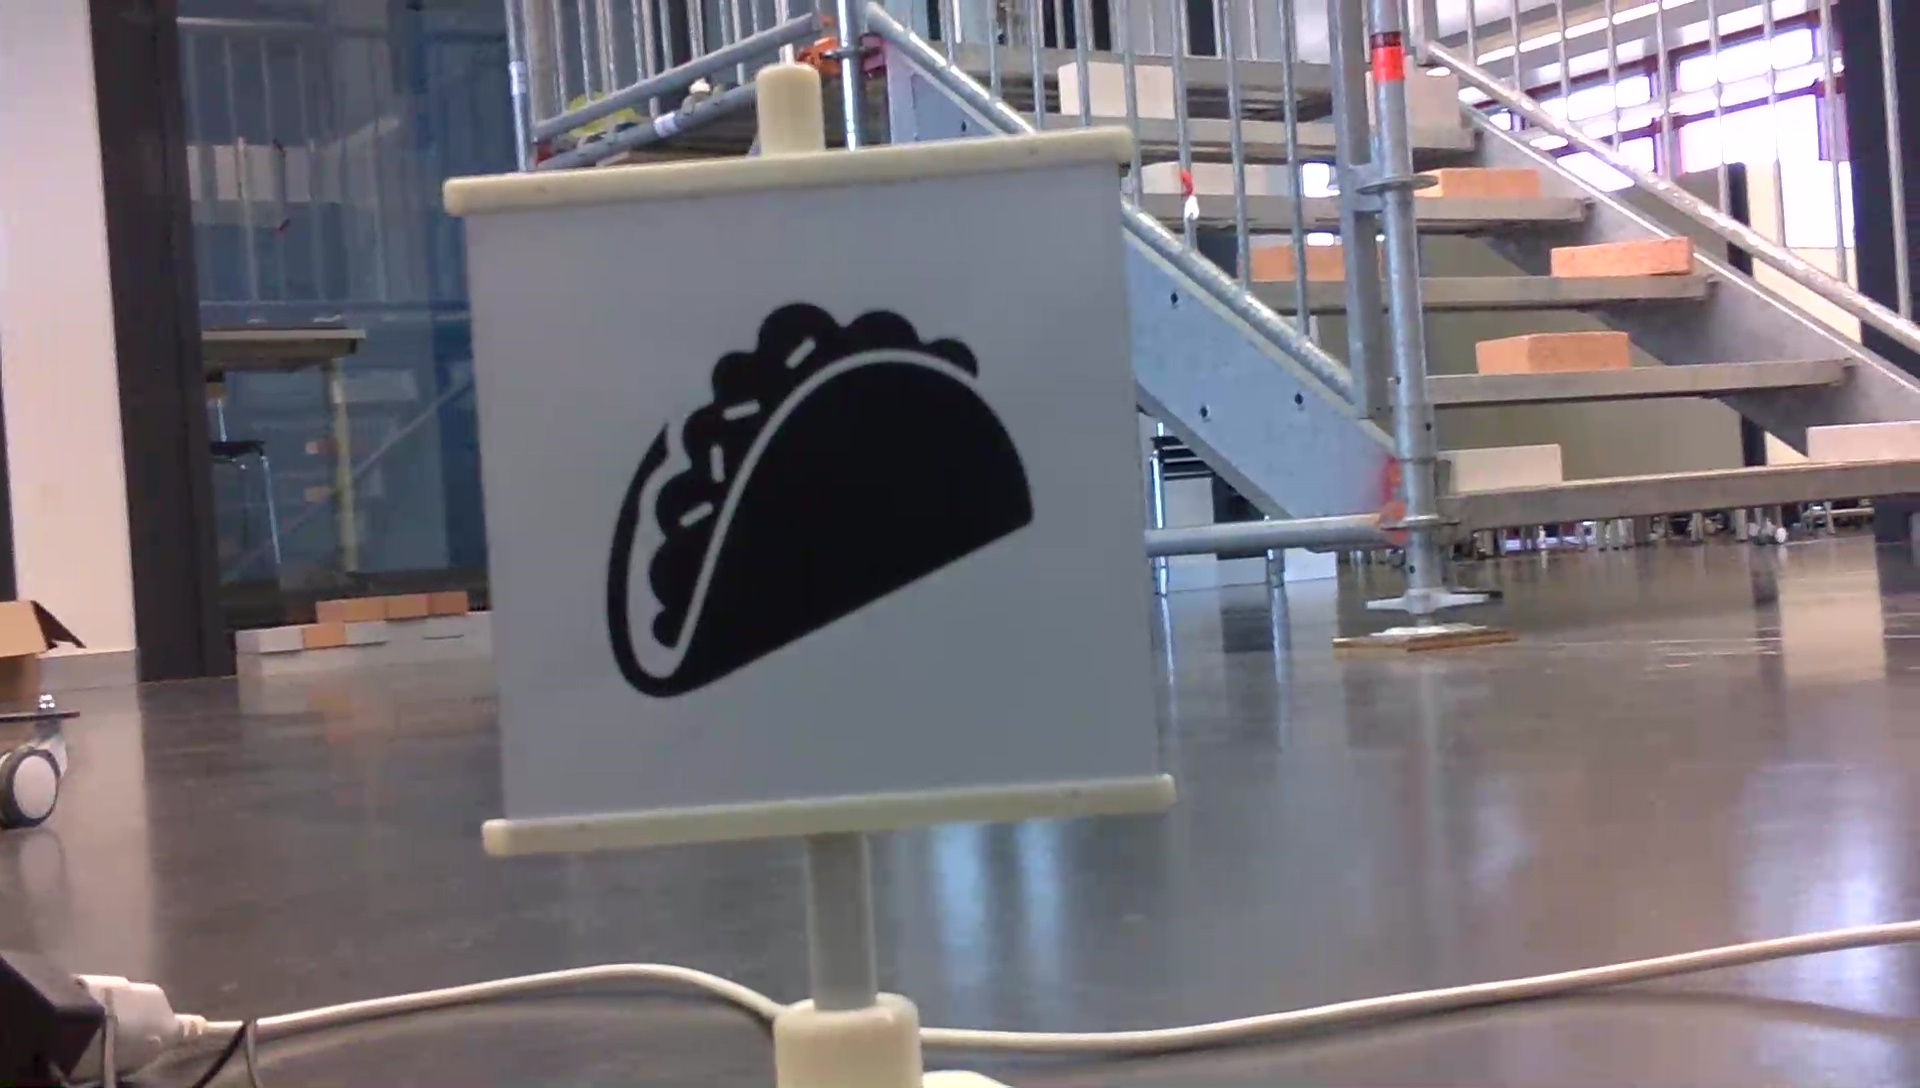brick: (1480, 332, 1629, 371), (1451, 444, 1563, 488), (1808, 421, 1920, 460), (1555, 243, 1689, 273), (1428, 165, 1540, 200), (1404, 73, 1458, 128)
edge: (1432, 462, 1917, 531), (1429, 355, 1855, 400)
taco: (591, 293, 1047, 706)
